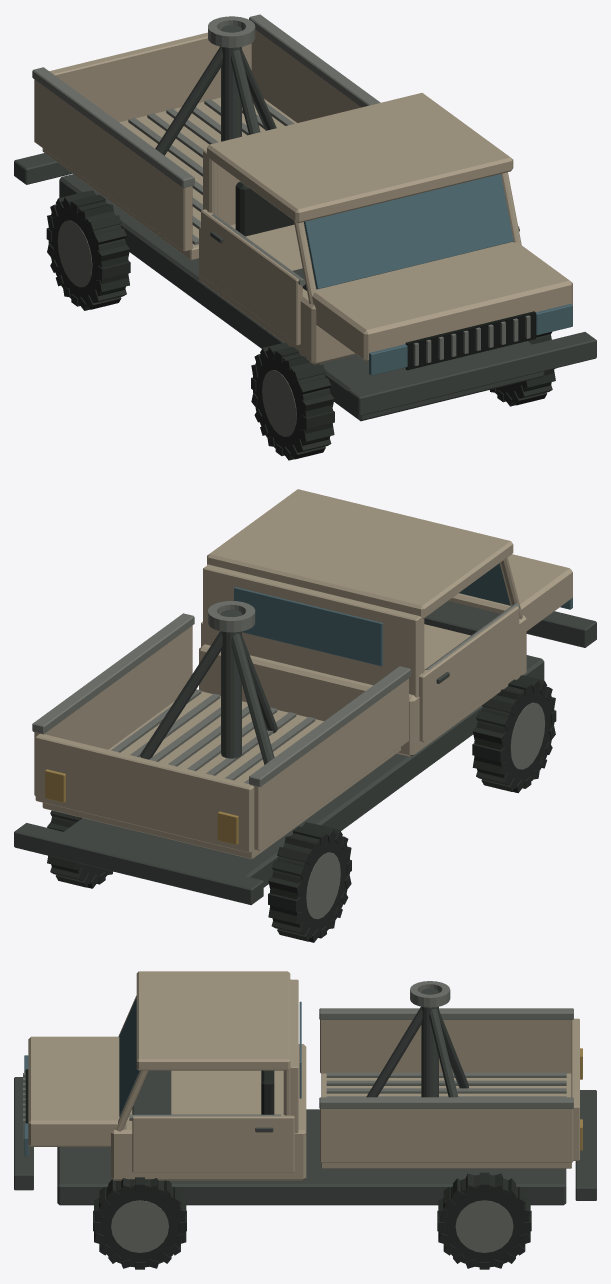
File: technical-pickup-support.glb
The picture shows the model from 3 angles, top to bottom: view 1: azimuth 30°, elevation 25°; view 2: azimuth 150°, elevation 25°; view 3: azimuth 270°, elevation 25°; orthographic projection. The views are drawn at different scales.
Parts seen in each view (by area): view 1: TechnicalBody_weathered sand, TechnicalBody_phosphate steel, TechnicalBody_glass, TechnicalBody_worn edges, Wheel_-1.46_-1_black rubber, Wheel_1.45_-1_black rubber, TechnicalBody_dark cavity, TechnicalBody_black rubber, Wheel_1.45_-1_worn edges, Wheel_-1.46_-1_worn edges, Wheel_1.45_1_black rubber; view 2: TechnicalBody_weathered sand, TechnicalBody_phosphate steel, TechnicalBody_worn edges, TechnicalBody_glass, Wheel_-1.46_-1_black rubber, Wheel_1.45_-1_black rubber, Wheel_1.45_-1_worn edges, Wheel_-1.46_-1_worn edges, Wheel_-1.46_1_black rubber, TechnicalBody_brass; view 3: TechnicalBody_weathered sand, TechnicalBody_phosphate steel, TechnicalBody_worn edges, Wheel_-1.46_1_black rubber, Wheel_1.45_1_black rubber, Wheel_-1.46_1_worn edges, Wheel_1.45_1_worn edges, TechnicalBody_glass, TechnicalBody_black rubber.
Part boxes in pixels (bbox=[...]): TechnicalBody_weathered sand: bbox=[34, 30, 572, 364]; TechnicalBody_phosphate steel: bbox=[14, 25, 596, 421]; TechnicalBody_glass: bbox=[304, 174, 572, 375]; TechnicalBody_worn edges: bbox=[32, 14, 530, 365]; Wheel_-1.46_-1_black rubber: bbox=[46, 190, 130, 310]; Wheel_1.45_-1_black rubber: bbox=[251, 342, 334, 460]; TechnicalBody_dark cavity: bbox=[405, 311, 535, 370]; TechnicalBody_black rubber: bbox=[235, 181, 294, 236]; Wheel_1.45_-1_worn edges: bbox=[262, 370, 296, 436]; Wheel_-1.46_-1_worn edges: bbox=[57, 220, 92, 287]; Wheel_1.45_1_black rubber: bbox=[490, 332, 555, 406]; TechnicalBody_weathered sand: bbox=[34, 489, 572, 859]; TechnicalBody_phosphate steel: bbox=[14, 601, 596, 904]; TechnicalBody_worn edges: bbox=[32, 601, 519, 786]; TechnicalBody_glass: bbox=[234, 563, 572, 666]; Wheel_-1.46_-1_black rubber: bbox=[268, 822, 351, 942]; Wheel_1.45_-1_black rubber: bbox=[472, 675, 556, 793]; Wheel_1.45_-1_worn edges: bbox=[510, 702, 545, 769]; Wheel_-1.46_-1_worn edges: bbox=[306, 852, 340, 919]; Wheel_-1.46_1_black rubber: bbox=[47, 810, 112, 888]; TechnicalBody_brass: bbox=[45, 769, 238, 844]; TechnicalBody_weathered sand: bbox=[28, 971, 579, 1180]; TechnicalBody_phosphate steel: bbox=[14, 988, 596, 1205]; TechnicalBody_worn edges: bbox=[23, 981, 573, 1138]; Wheel_-1.46_1_black rubber: bbox=[437, 1172, 531, 1269]; Wheel_1.45_1_black rubber: bbox=[93, 1177, 186, 1269]; Wheel_-1.46_1_worn edges: bbox=[455, 1200, 513, 1252]; Wheel_1.45_1_worn edges: bbox=[111, 1200, 168, 1252]; TechnicalBody_glass: bbox=[24, 997, 301, 1156]; TechnicalBody_black rubber: bbox=[261, 1070, 274, 1114].
Bounding box in the file's own units: 2.06 × 2.13 × 4.92.
